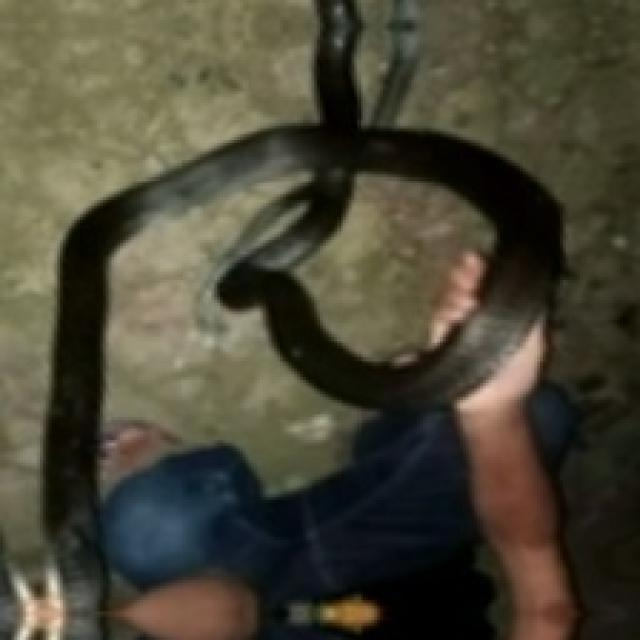king cobra: (43, 0, 557, 637), (0, 0, 309, 289)
